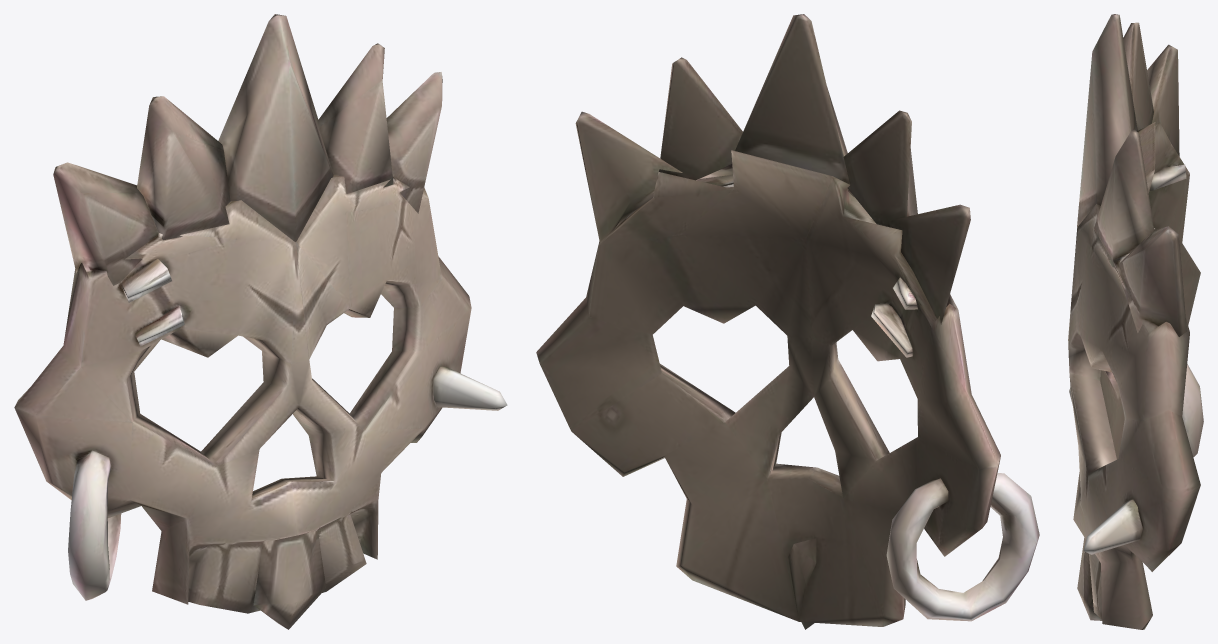
Rendered from skull.glb.
3 views of the same model, side by side, from view 1: azimuth 30°, elevation 25°; view 2: azimuth 150°, elevation 25°; view 3: azimuth 270°, elevation 25° (orthographic).
Visible parts, largest first — view 1: mesh_node; view 2: mesh_node; view 3: mesh_node.
Part boxes in pixels (<box>): mesh_node: <box>14,14,507,629</box>; mesh_node: <box>536,14,1039,629</box>; mesh_node: <box>1068,14,1203,629</box>.
Bounding box in the file's own units: 0.7852 × 1 × 0.2026.
Materials: 1 (1 with a texture image).
